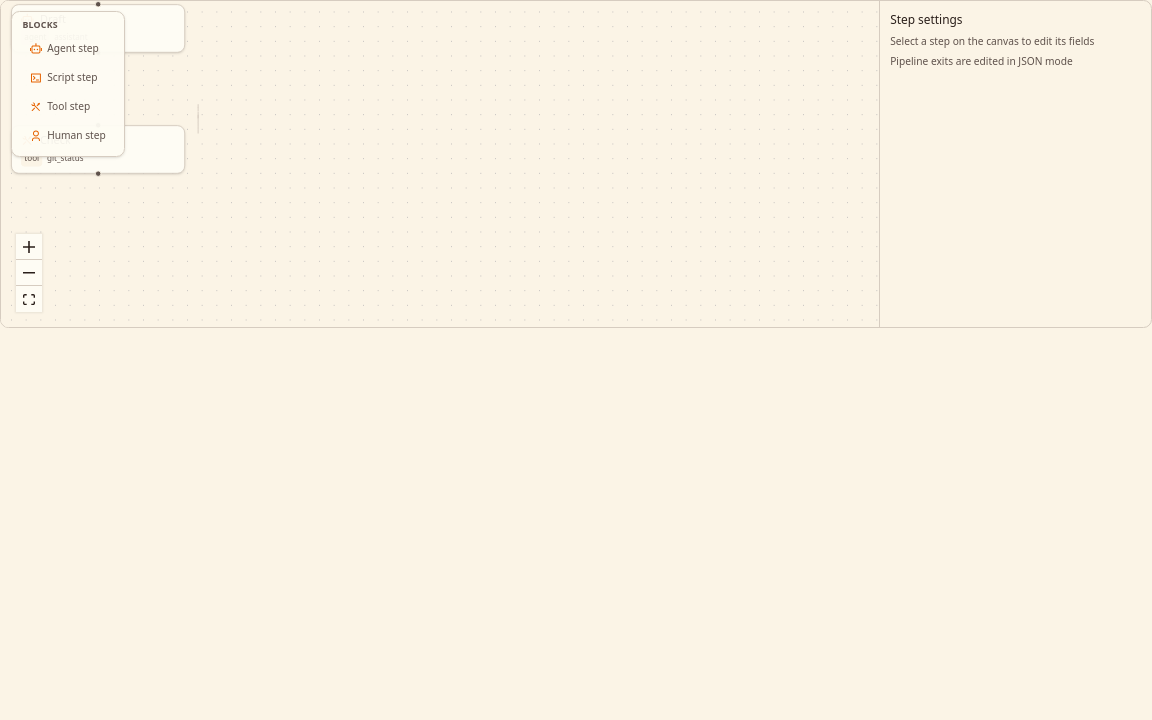
Scenario: PipelineEditor — палитра: добавление шага › шаг вида «tool» появляется на канвасе и попадает в спецификацию
Click the button "Tool step" at (68, 107), box [19,94,117,120]
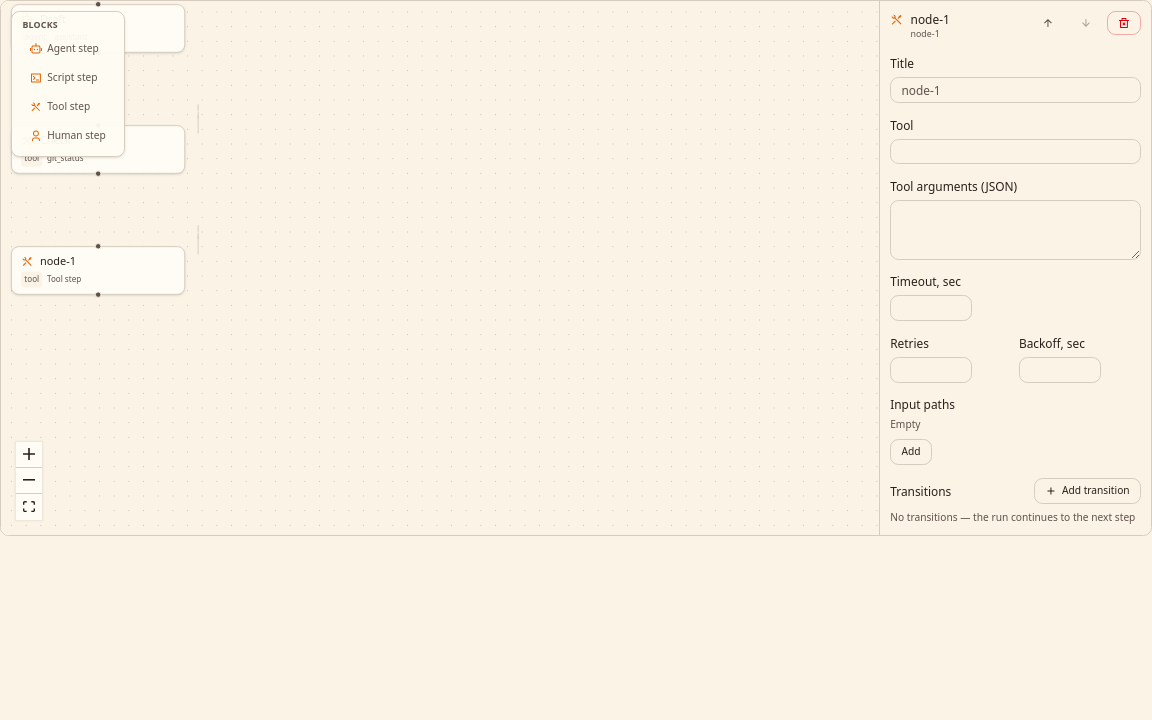
Expected: the text "tool" next to "git_status" is shown, [24,153,39,164]
Expected: the element showing "node-1 tool Tool step" is shown, [11,246,186,294]
